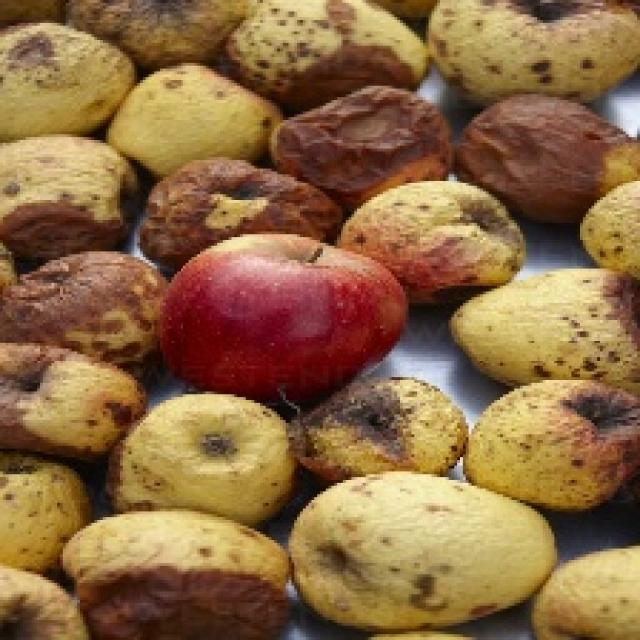rotten_apple: (299, 480, 490, 627), (69, 514, 295, 633), (106, 395, 300, 511), (464, 272, 640, 379), (478, 382, 634, 502), (440, 0, 638, 91), (344, 182, 520, 284), (462, 96, 605, 210), (305, 380, 465, 481), (237, 0, 428, 84), (0, 252, 169, 346), (278, 84, 445, 176), (0, 347, 138, 454), (147, 160, 326, 240), (0, 29, 131, 130), (2, 456, 85, 569)
